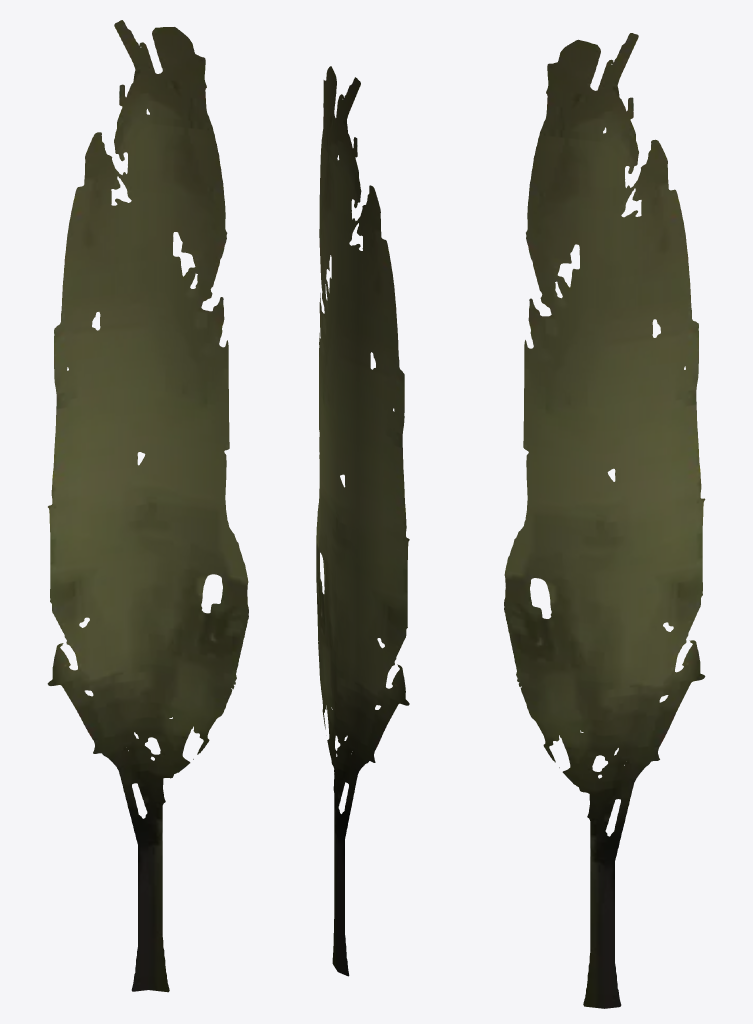
3 renders of one model, left to right at view 1: azimuth 90°, elevation 25°; view 2: azimuth 210°, elevation 25°; view 3: azimuth 270°, elevation 25°, orthographic. The views are drawn at different scales.
Visible parts, largest first — view 1: body0_model0_lod0_mesh0; view 2: body0_model0_lod0_mesh0; view 3: body0_model0_lod0_mesh0.
Part boxes in pixels (x1,y1,x2,y2): body0_model0_lod0_mesh0: (47, 20, 248, 992); body0_model0_lod0_mesh0: (316, 66, 409, 976); body0_model0_lod0_mesh0: (504, 33, 705, 1008).
Size of the model in its own units: 3.08 by 64 by 16.
1 material, 1 textured.
